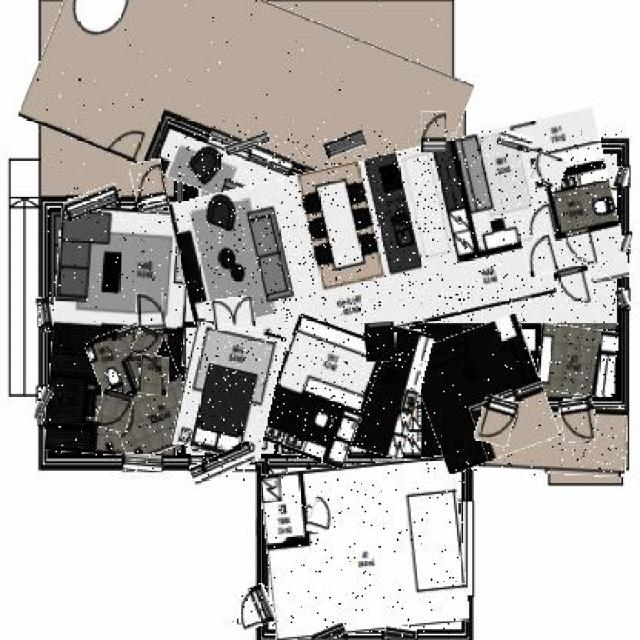door: (477, 397, 517, 446), (132, 160, 166, 212), (232, 586, 274, 628), (560, 397, 597, 443), (557, 268, 594, 310), (212, 297, 255, 331), (99, 389, 132, 431), (524, 234, 556, 277), (308, 498, 342, 538), (366, 322, 397, 362), (138, 354, 168, 395), (532, 154, 566, 186), (420, 111, 446, 152), (137, 292, 163, 332), (132, 328, 162, 358)
window: (191, 448, 255, 480), (63, 188, 120, 215), (325, 134, 366, 155), (122, 454, 162, 472), (225, 136, 269, 152), (498, 132, 532, 151), (37, 298, 54, 332), (310, 624, 344, 640), (37, 386, 52, 420), (384, 624, 415, 640), (614, 168, 629, 188), (617, 289, 629, 309), (620, 231, 631, 252)
zone: (29, 0, 461, 232), (175, 131, 623, 349), (48, 206, 188, 459), (264, 460, 464, 635), (415, 322, 551, 466), (266, 320, 377, 465), (177, 323, 280, 459), (95, 322, 191, 460), (472, 403, 628, 475), (356, 324, 426, 456), (538, 326, 618, 396)
